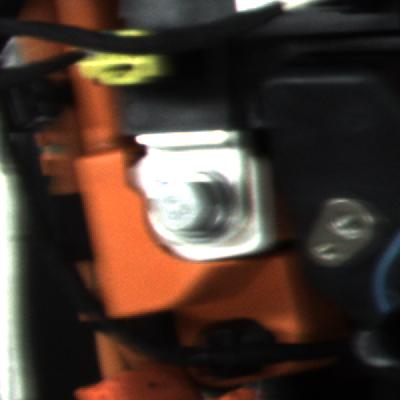nut_b: (142, 165, 248, 249)
